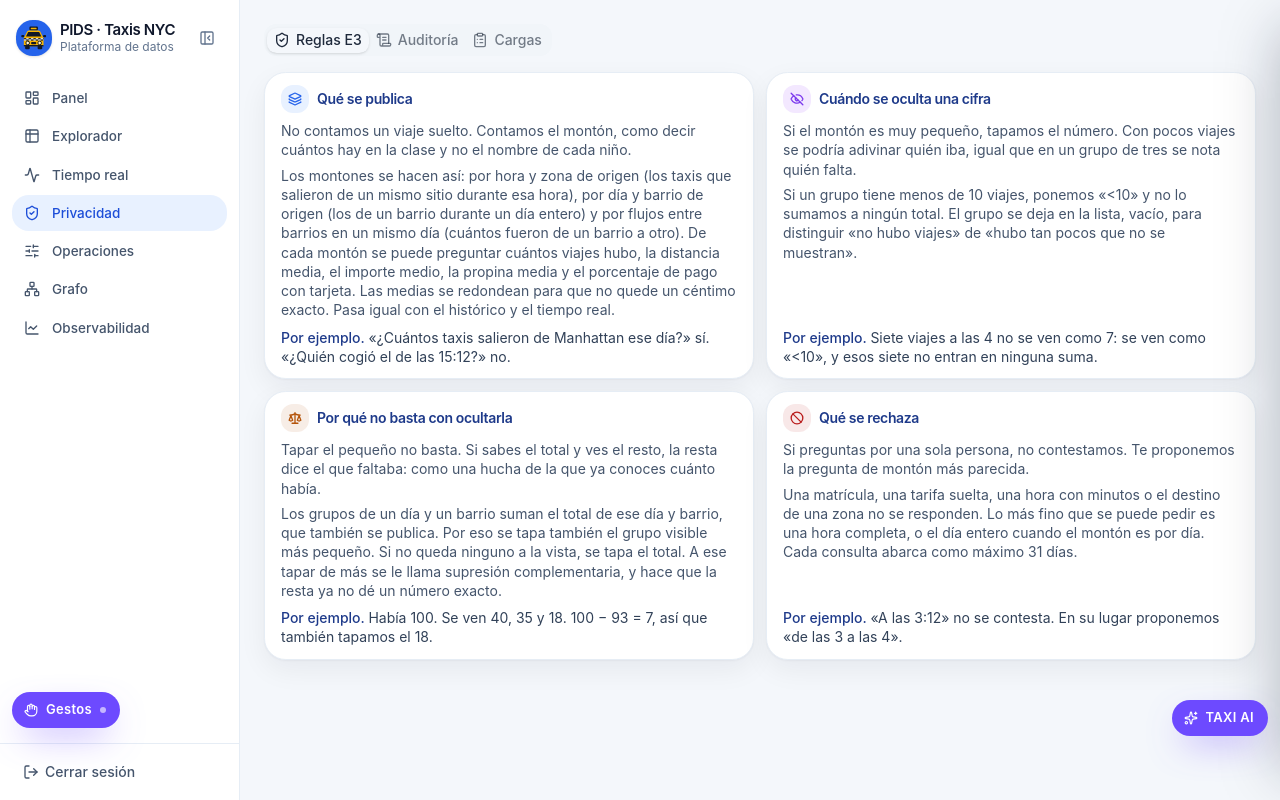
PaginaPrivacidad › «Cargas» lista cada carga con leídos, válidos, rechazados y los grupos por nivel
The image size is (1280, 800).
Click the tab "Cargas". click: x=507, y=40
box: left=465, top=28, right=549, bottom=52
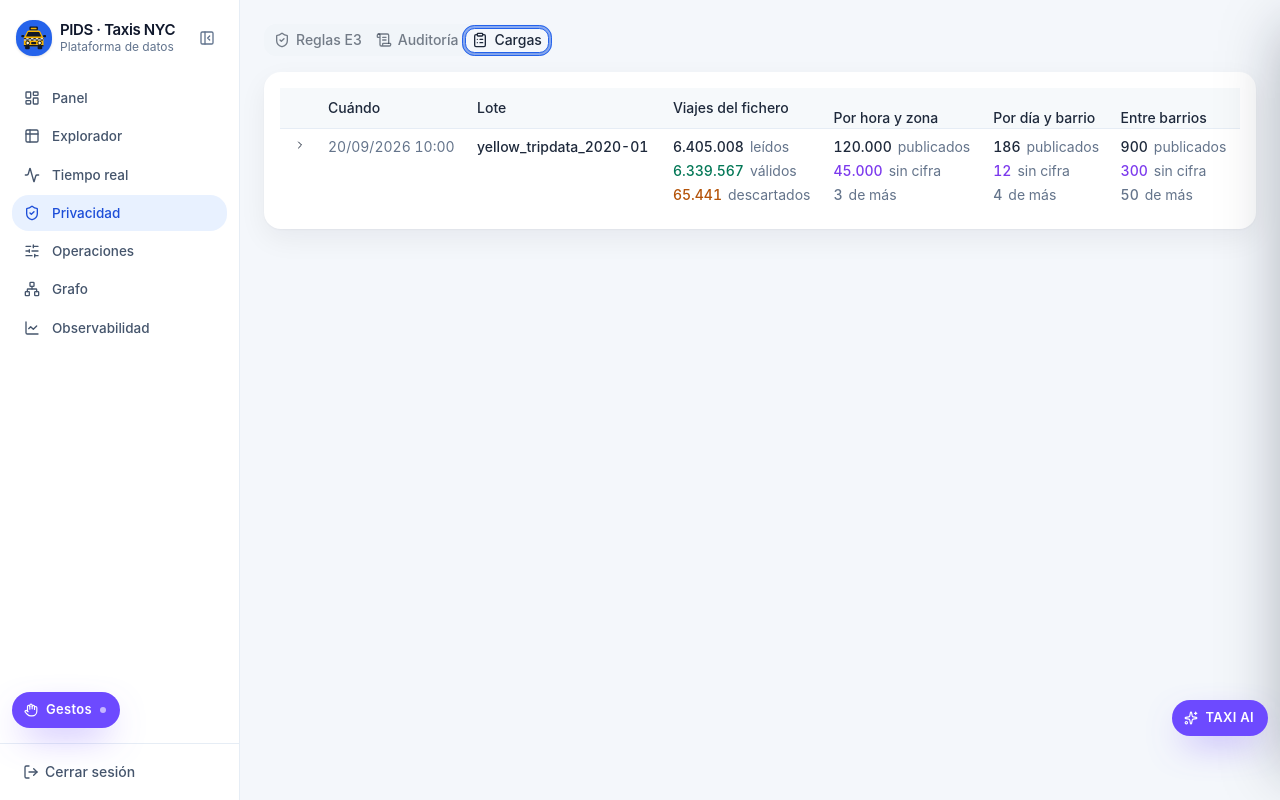
Check: the text "yellow_tripdata_2020-01" is shown, box left=469, top=128, right=665, bottom=212
Check: the text "6.405.008" is shown, box left=673, top=136, right=744, bottom=156
Check: the text "6.339.567" is shown, box left=673, top=160, right=744, bottom=180
Click the button named "Ver el detalle". click: x=300, y=144
box: left=288, top=132, right=312, bottom=156
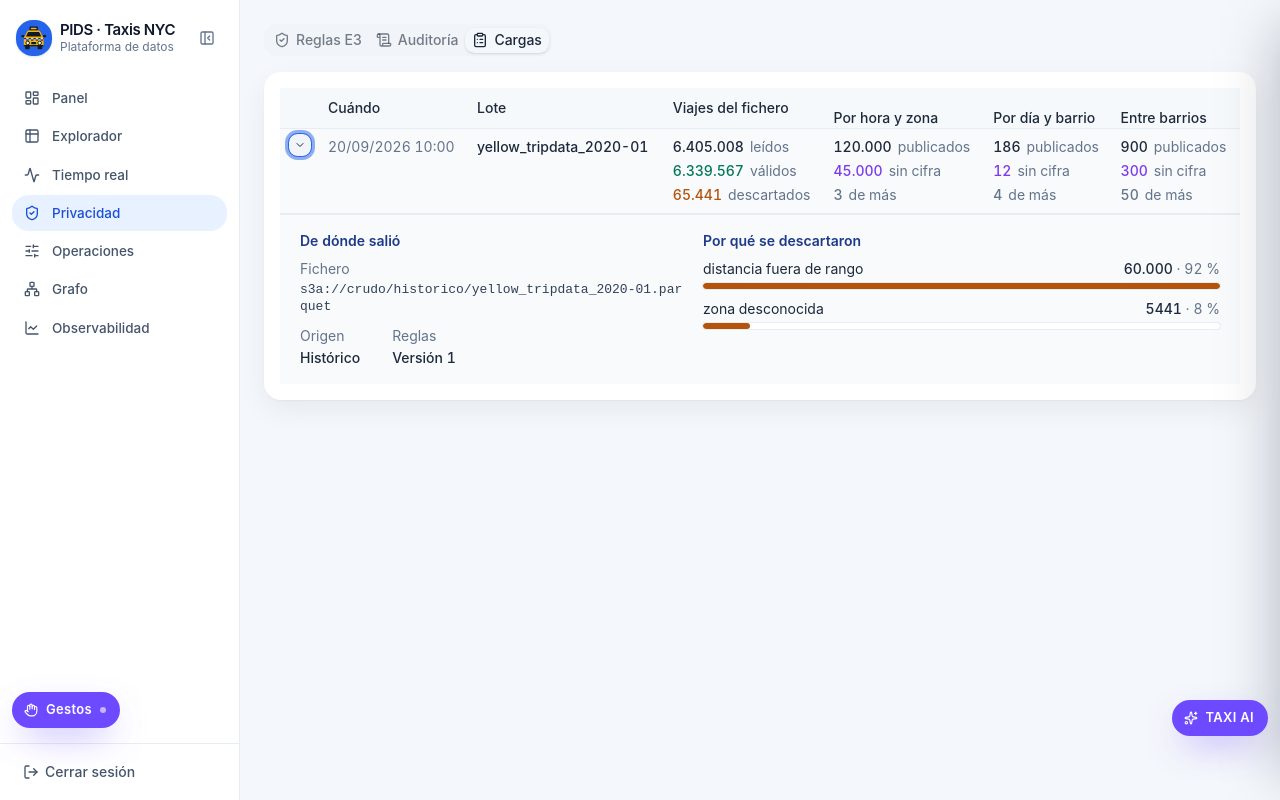
Check: the text "distancia fuera de rango" is shown, box left=703, top=258, right=864, bottom=278
Check: the text "s3a://crudo/historico/yellow_tripdata_2020-01.parquet" is shown, box left=300, top=280, right=683, bottom=316
